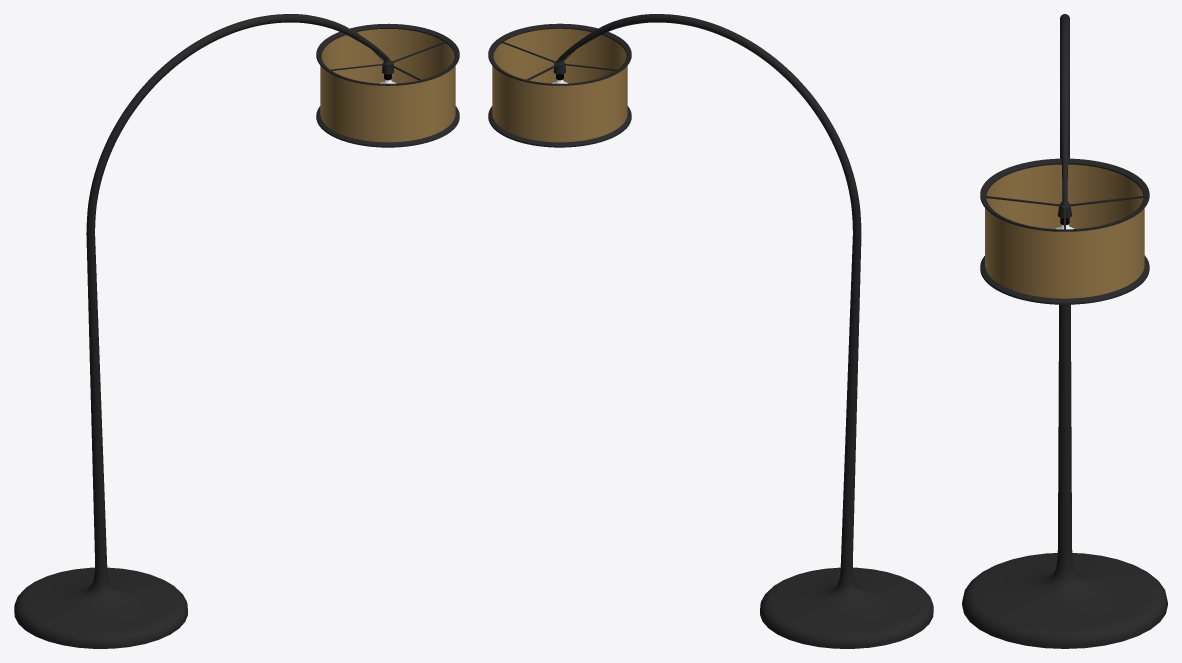
Rendered from modern_lamp.gltf.
3 renders of one model, left to right at view 1: azimuth 30°, elevation 25°; view 2: azimuth 150°, elevation 25°; view 3: azimuth 270°, elevation 25°, orthographic. The views are drawn at different scales.
Parts seen in each view (by area): view 1: Cylinder_0, Cylinder.001_1, Cylinder.002_3; view 2: Cylinder_0, Cylinder.001_1, Cylinder.002_3; view 3: Cylinder_0, Cylinder.001_1, Cylinder.002_3.
Boxes of the visible parts, <box> form: Cylinder_0: <box>14,14,445,648</box>; Cylinder.001_1: <box>320,29,455,142</box>; Cylinder.002_3: <box>316,23,459,147</box>; Cylinder_0: <box>502,14,933,648</box>; Cylinder.001_1: <box>492,28,627,142</box>; Cylinder.002_3: <box>488,23,631,147</box>; Cylinder_0: <box>962,14,1167,648</box>; Cylinder.001_1: <box>985,164,1144,298</box>; Cylinder.002_3: <box>980,158,1149,304</box>.
Bounding box in the file's own units: 1.75 × 2.2 × 0.6232.
